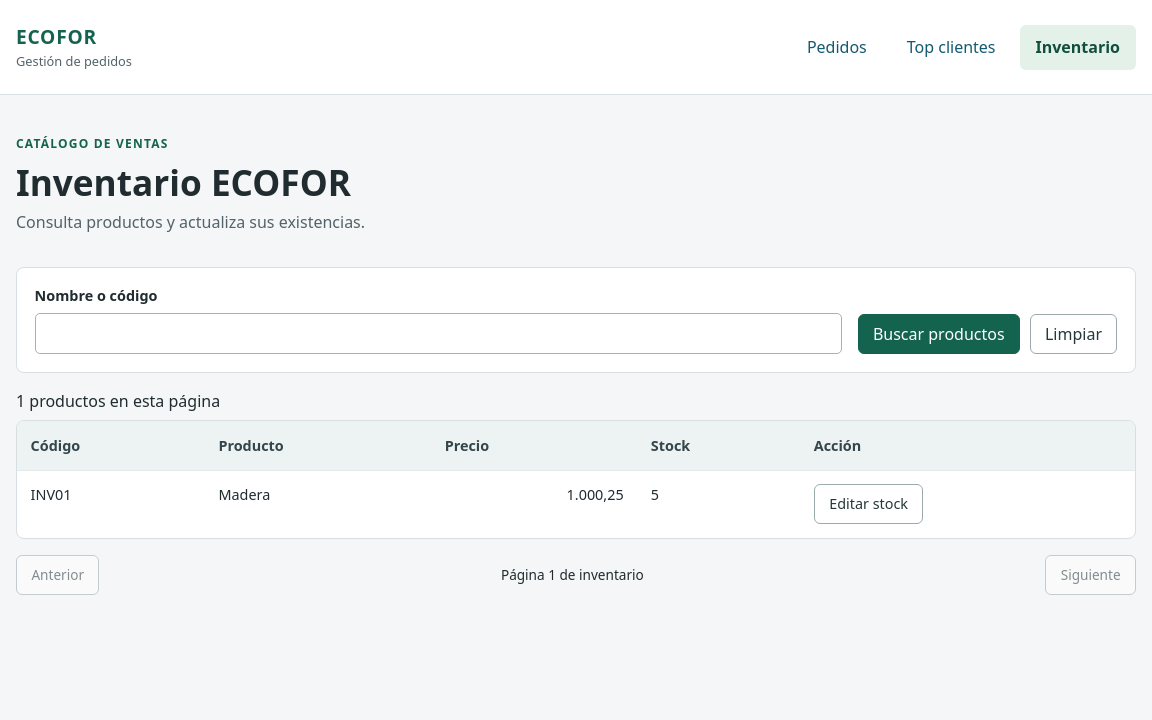
Test: Detalle e inventario › muestra el catálogo de ventas y edita su stock
The image size is (1152, 720).
Click the button "Editar stock" at (869, 504), box [814,484,924,524]
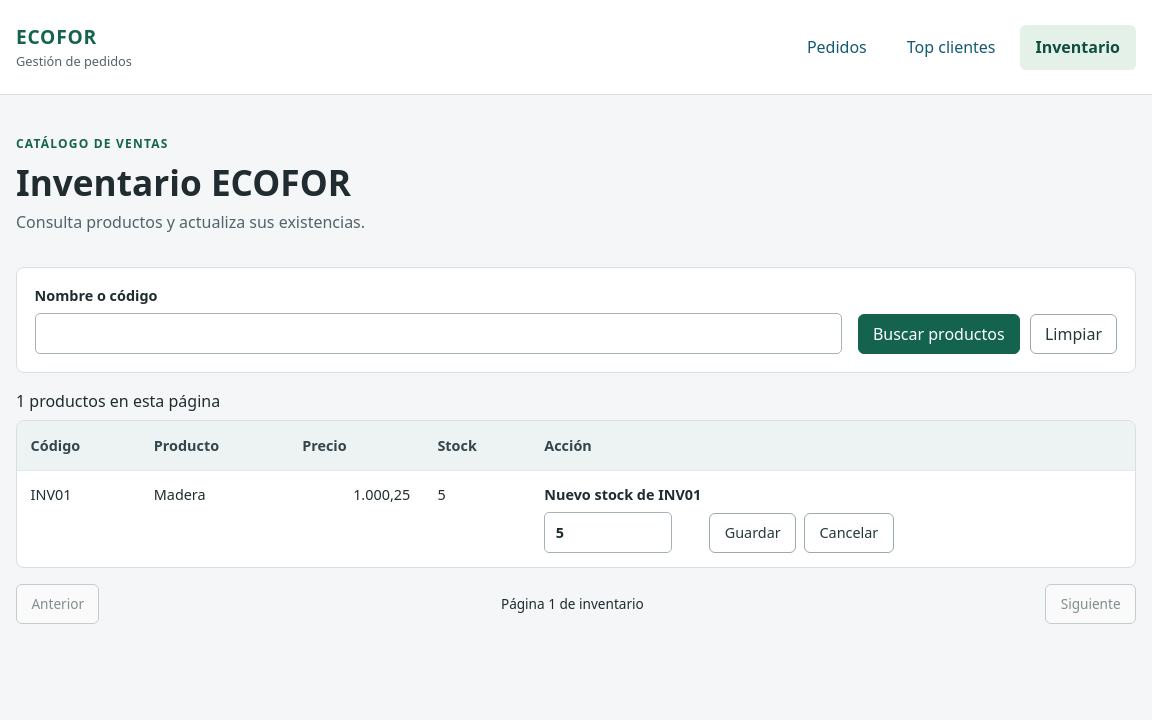
Expected: the cell "1.000,25" is shown, [289,471,424,567]
Replace the text in the number field labelled "Nuevo stock de INV01" with "9" at (608, 532), box [544,512,672,553]
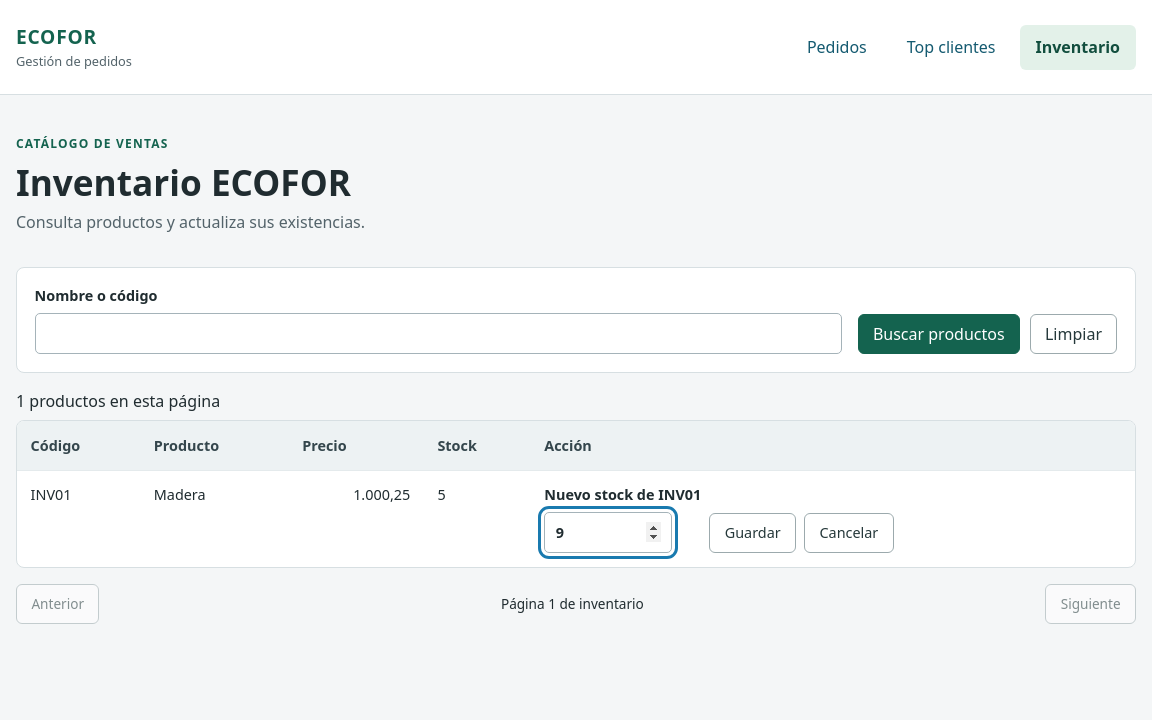
Click the button "Guardar" at (753, 533), box [709,513,796,553]
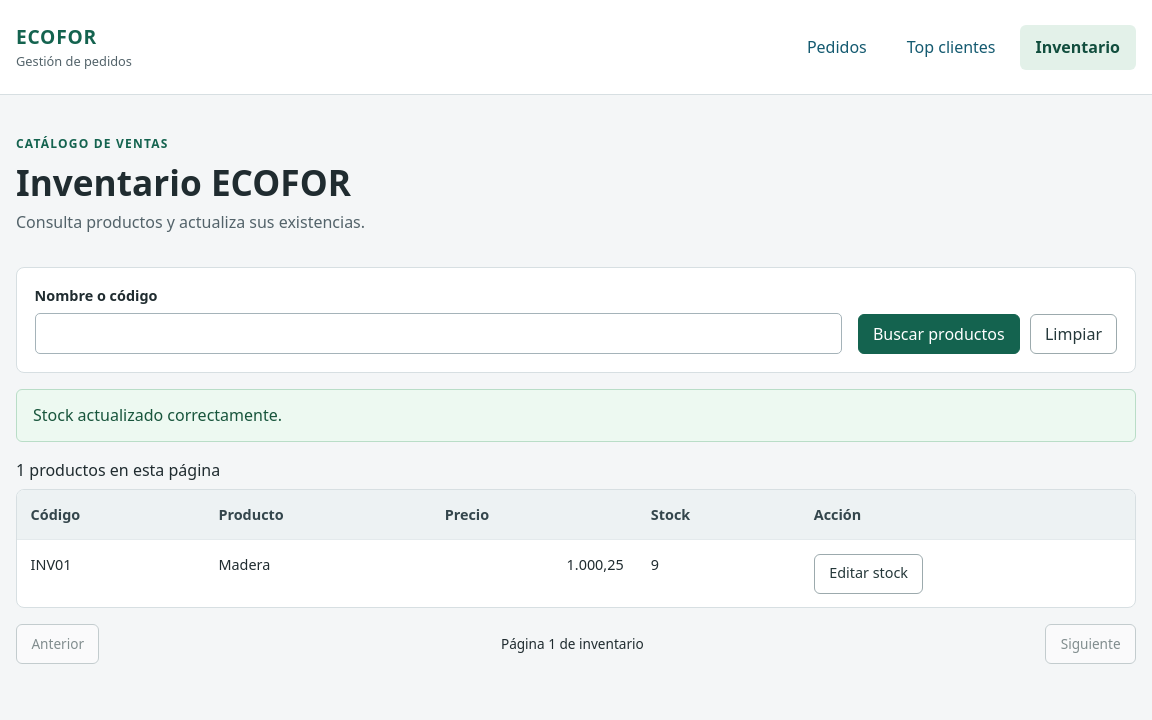
Expected: the text "Stock actualizado correctamente." is shown, [16,389,1136,442]
Expected: the cell "9" is shown, [637,540,800,607]
